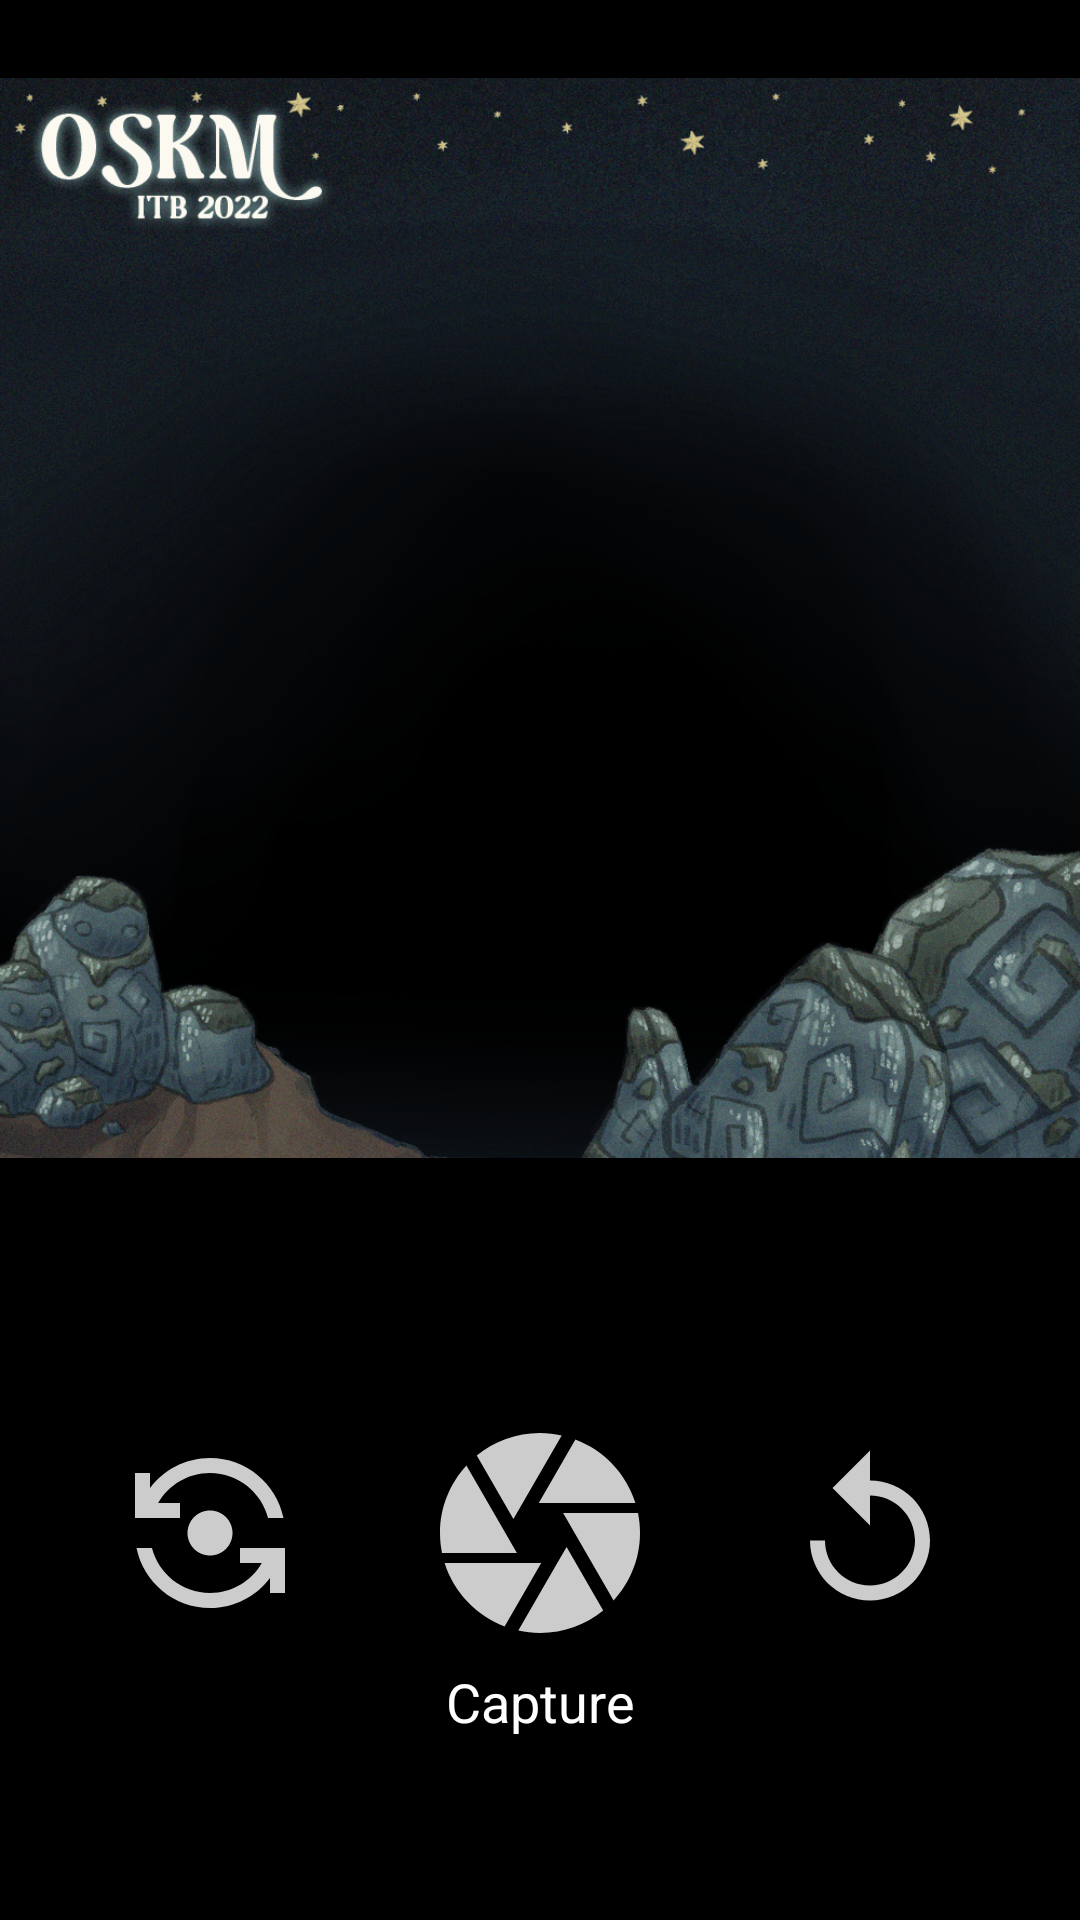

Where icons sit on this 1080px x 1920px app screen, as box(x1, y1, x2, y2):
camera: box(440, 1433, 640, 1633)
flip camera: box(135, 1458, 285, 1608)
